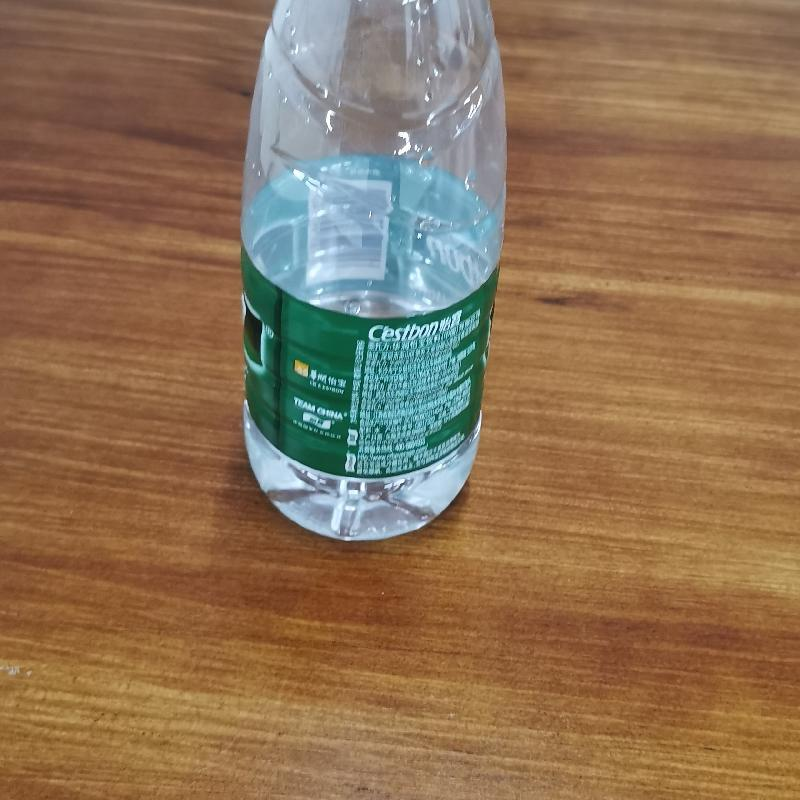bottles: (232, 1, 504, 550)
